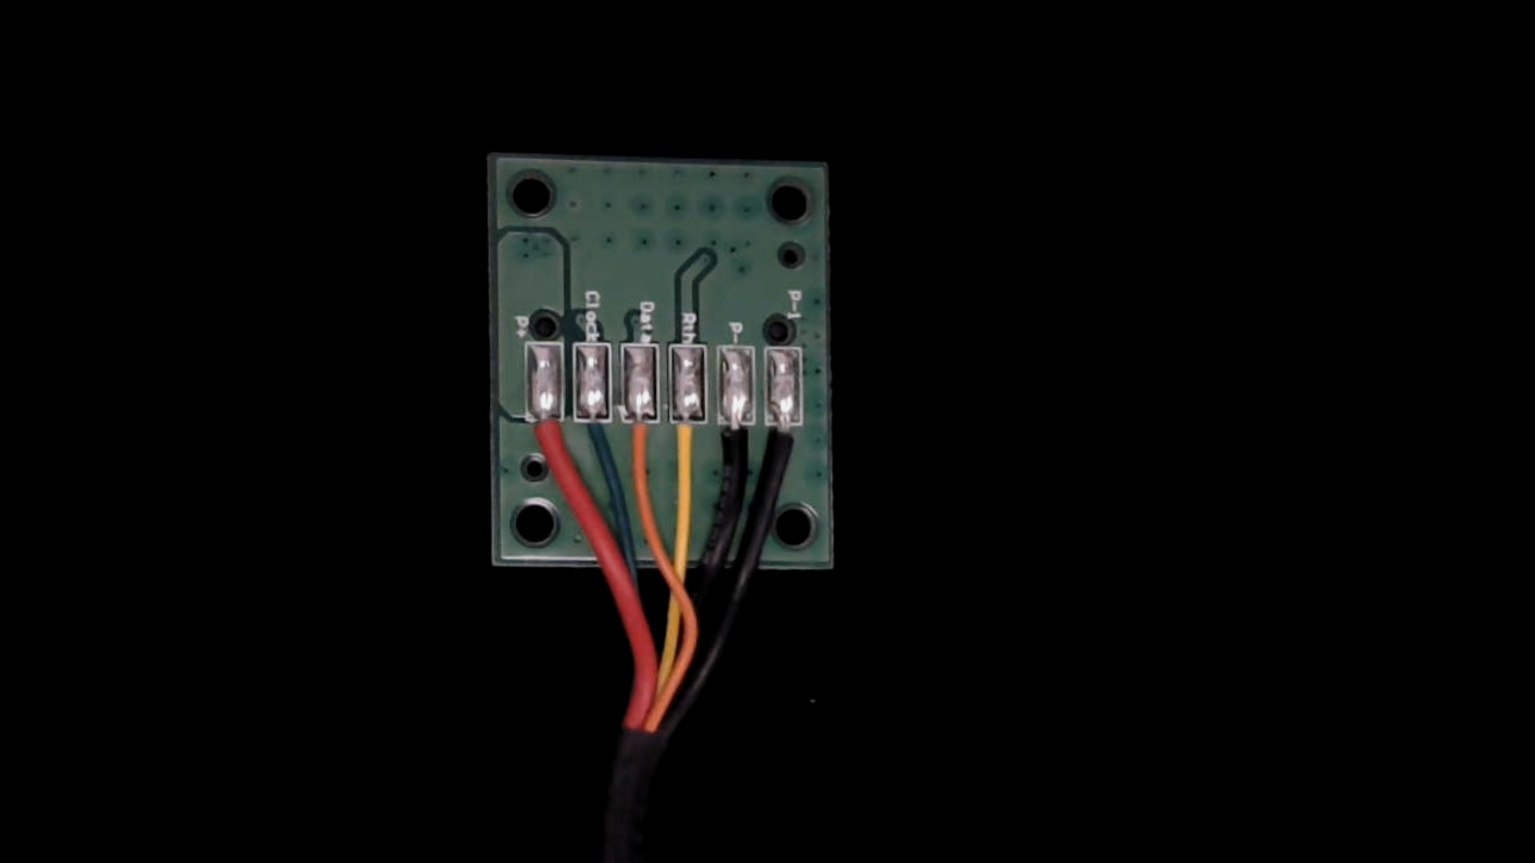Black: (717, 396, 761, 487)
Black1: (767, 400, 810, 484)
Green: (575, 396, 616, 471)
Orange: (623, 398, 664, 488)
Red: (525, 397, 569, 485)
Yellow: (665, 398, 710, 490)
